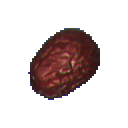gd: (11, 11, 122, 128)
